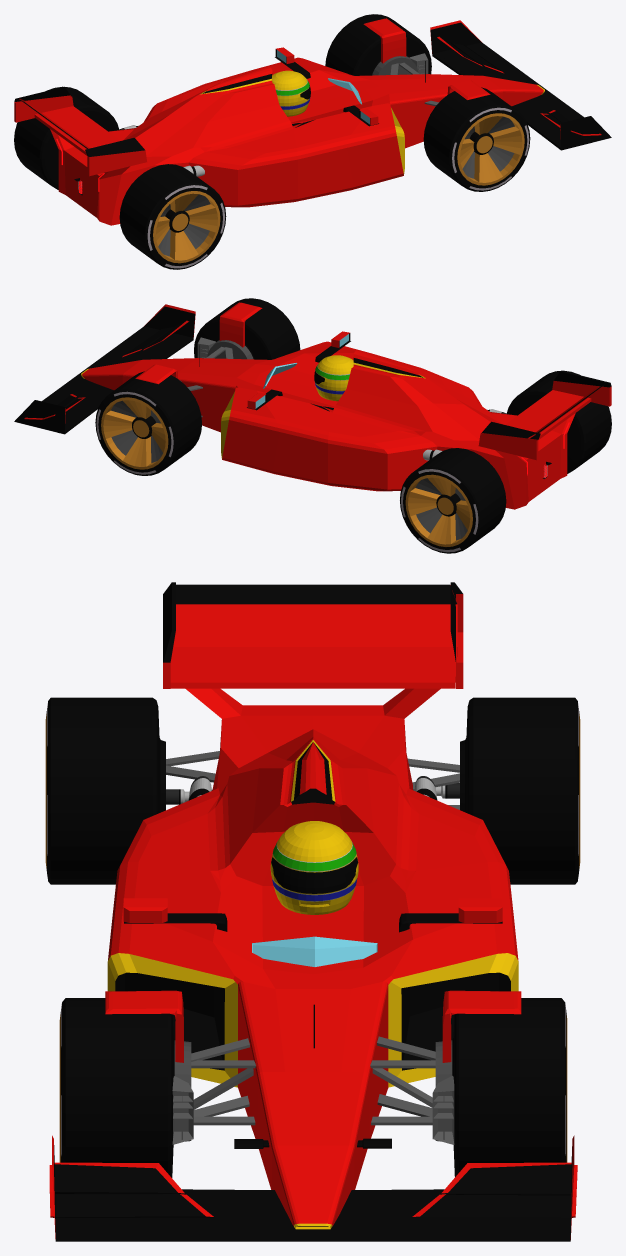
File: pahen_me-01_lowpoly.glb
3 views of the same model, one above another, from view 1: azimuth 30°, elevation 25°; view 2: azimuth 150°, elevation 25°; view 3: azimuth 270°, elevation 25° (orthographic). The views are drawn at different scales.
Visible parts, largest first — view 1: Cube_4, Cylinder.001_2, Cylinder.004_3, Cylinder.002_7, Cylinder.003_8; view 2: Cube_4, Cylinder.003_8, Cylinder.002_7, Cylinder.004_3, Cylinder.001_2; view 3: Cube_4, Cylinder.001_2, Cylinder.003_8, Cylinder.004_3, Cylinder.002_7.
Boxes of the visible parts, bbox=[...] form: Cube_4: bbox=[14, 18, 611, 225]; Cylinder.001_2: bbox=[119, 164, 226, 269]; Cylinder.004_3: bbox=[423, 87, 530, 191]; Cylinder.002_7: bbox=[325, 14, 431, 75]; Cylinder.003_8: bbox=[14, 86, 119, 189]; Cube_4: bbox=[14, 302, 611, 509]; Cylinder.003_8: bbox=[400, 448, 506, 553]; Cylinder.002_7: bbox=[95, 371, 201, 475]; Cylinder.004_3: bbox=[194, 298, 300, 359]; Cylinder.001_2: bbox=[506, 370, 611, 473]; Cube_4: bbox=[49, 582, 577, 1241]; Cylinder.001_2: bbox=[45, 697, 165, 884]; Cylinder.003_8: bbox=[460, 697, 580, 884]; Cylinder.004_3: bbox=[59, 998, 191, 1177]; Cylinder.002_7: bbox=[435, 998, 567, 1176].
Bounding box in the file's own units: 12.15 × 2.73 × 5.66.
